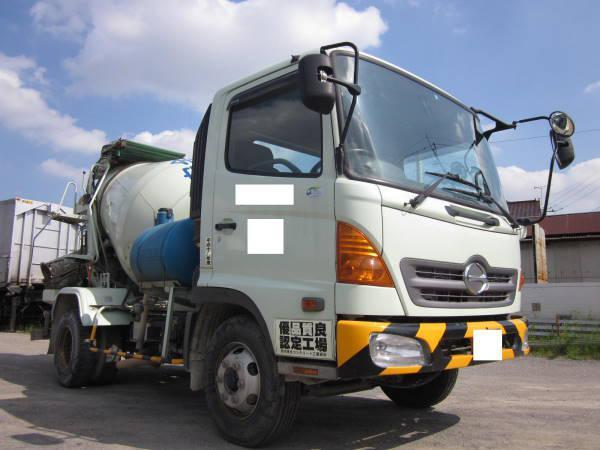Truck: (52, 45, 578, 443)
